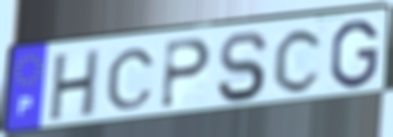C: (271, 26, 327, 96), (104, 46, 157, 113)
G: (329, 17, 381, 91)
H: (46, 46, 104, 125)
P: (158, 37, 214, 111)
S: (214, 29, 270, 104)
